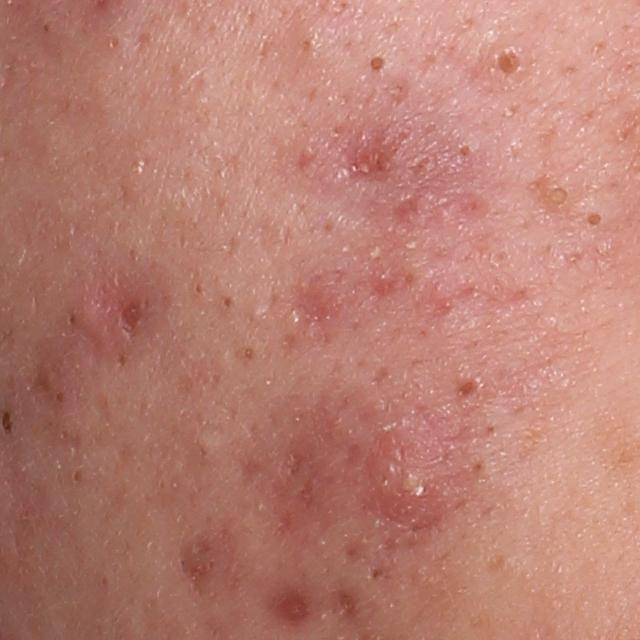atrophic_scar: (174, 522, 240, 598), (337, 128, 399, 190), (260, 576, 323, 629), (119, 290, 146, 340)
comedo: (483, 45, 523, 85), (452, 365, 487, 403), (537, 183, 575, 215), (361, 49, 393, 83), (582, 206, 611, 239), (366, 558, 392, 587), (196, 432, 222, 457), (238, 339, 262, 363), (66, 464, 86, 486), (218, 293, 237, 314), (106, 33, 126, 50), (456, 140, 473, 157), (39, 19, 58, 33)
